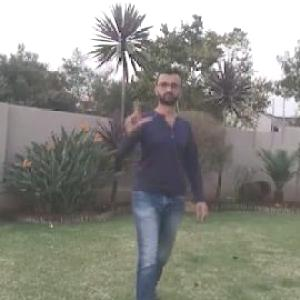land_hand: (119, 92, 157, 137)
